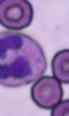N: (0, 32, 46, 87)
